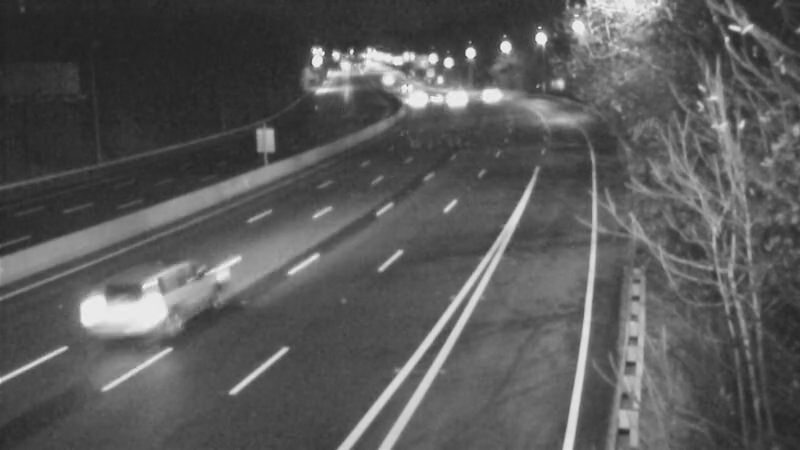vehicle: (77, 252, 187, 362), (364, 53, 414, 103), (380, 61, 430, 111), (470, 69, 520, 119), (431, 72, 481, 122), (411, 77, 461, 127), (386, 77, 436, 127)
